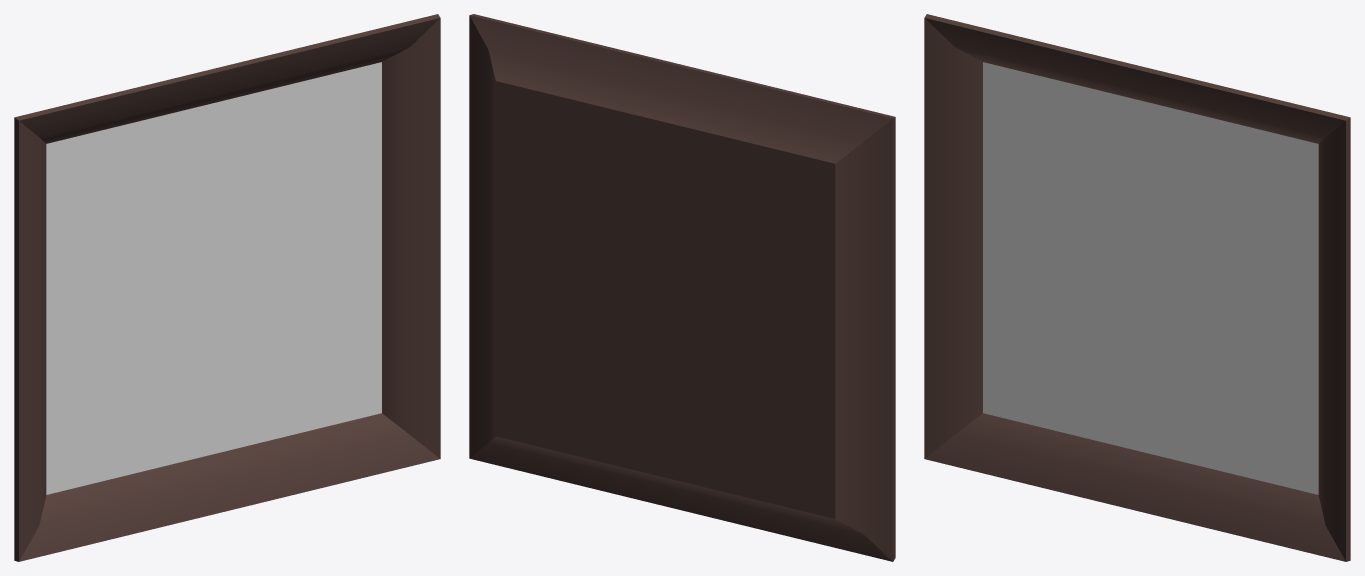
Rendered from Painting.fbx.
The picture shows the model from 3 angles, left to right: view 1: azimuth 30°, elevation 25°; view 2: azimuth 150°, elevation 25°; view 3: azimuth 330°, elevation 25°; orthographic projection.
Visible parts, largest first — view 1: Plane; view 2: Plane; view 3: Plane.
Part boxes in pixels (x1,y1,x2,y2): Plane: [14, 14, 440, 561]; Plane: [469, 14, 895, 561]; Plane: [924, 14, 1350, 561].
Bounding box in the file's own units: 100 × 100 × 7.87.
